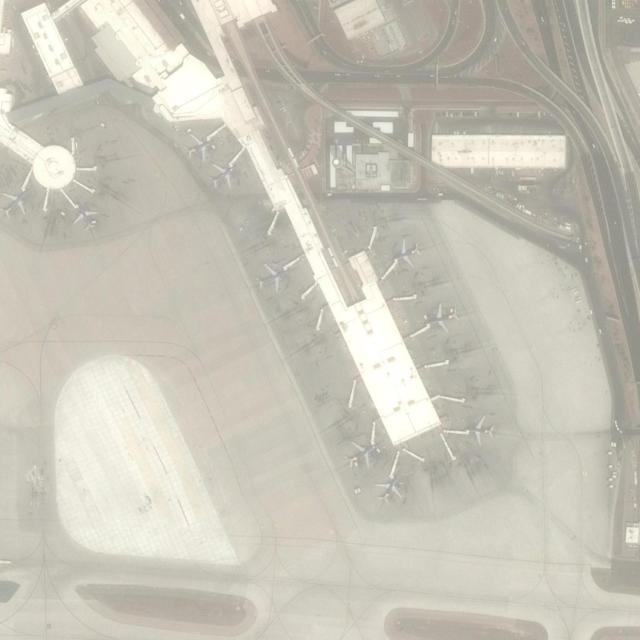Aircraft: (372, 471, 406, 507), (344, 440, 380, 472), (463, 414, 497, 444), (387, 241, 423, 268), (256, 262, 288, 292), (423, 304, 459, 330), (181, 132, 213, 160), (73, 202, 101, 234), (0, 189, 30, 217), (206, 161, 236, 187), (0, 548, 12, 576)
